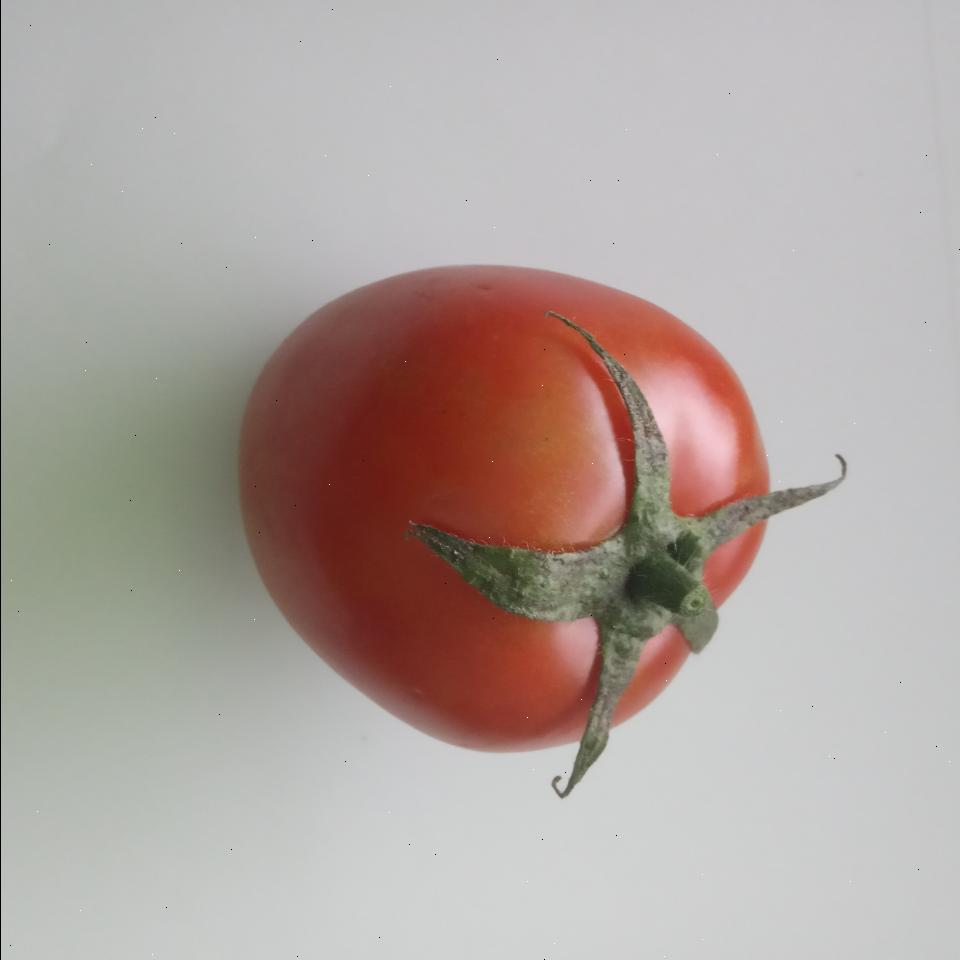Healthy: (234, 261, 854, 803)
